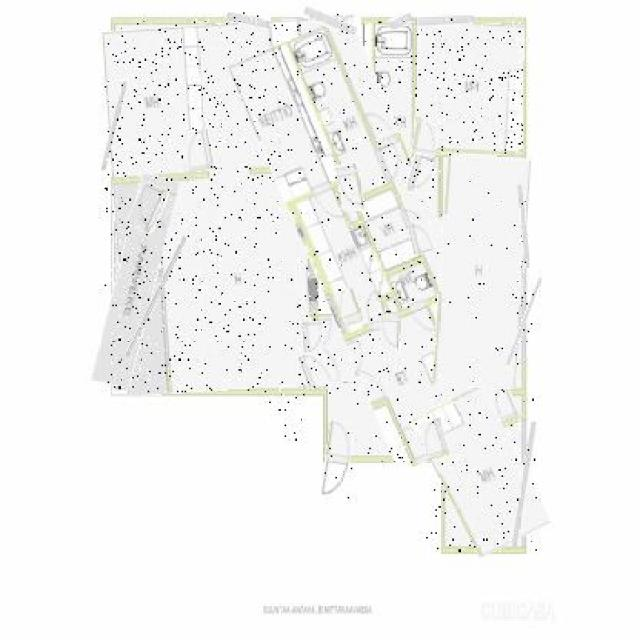door: (323, 422, 354, 498), (129, 183, 166, 232), (183, 130, 214, 172), (337, 163, 363, 211), (300, 350, 329, 388), (420, 418, 446, 460), (408, 156, 434, 196), (338, 288, 362, 328), (412, 122, 438, 156), (409, 220, 434, 254), (382, 312, 400, 350), (303, 322, 323, 352)
window: (140, 232, 172, 360), (517, 422, 532, 548), (515, 276, 534, 366), (106, 80, 122, 172), (303, 12, 357, 32), (228, 12, 270, 28), (520, 185, 528, 268), (417, 17, 474, 26), (390, 14, 412, 28)
zone: (108, 19, 377, 392), (269, 19, 482, 466), (437, 156, 526, 390), (426, 390, 537, 552), (415, 21, 523, 156), (103, 175, 166, 388), (318, 172, 369, 314)
